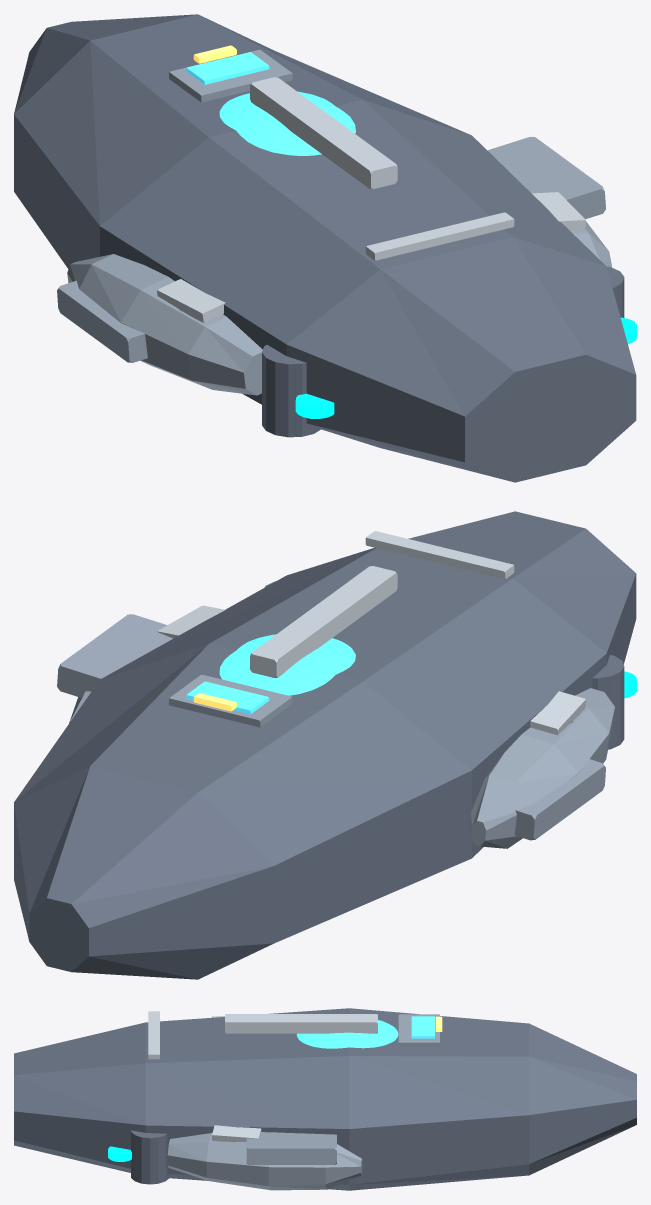
Rendered from patrol_interceptor.glb.
3 views of the same model, one above another, from view 1: azimuth 30°, elevation 25°; view 2: azimuth 150°, elevation 25°; view 3: azimuth 270°, elevation 25° (orthographic). The views are drawn at different scales.
Parts seen in each view (by area): view 1: Ceramic_titanium, Brushed_alloy, Edge_titanium, Ion_glass, Cyan_lightguide; view 2: Ceramic_titanium, Brushed_alloy, Edge_titanium, Ion_glass; view 3: Ceramic_titanium, Brushed_alloy, Edge_titanium, Ion_glass, Cyan_lightguide.
Part boxes in pixels (bbox=[...]): Ceramic_titanium: bbox=[14, 14, 636, 482]; Brushed_alloy: bbox=[57, 49, 612, 395]; Edge_titanium: bbox=[157, 77, 585, 322]; Ion_glass: bbox=[186, 52, 355, 155]; Cyan_lightguide: bbox=[295, 317, 636, 418]; Ceramic_titanium: bbox=[14, 511, 636, 979]; Brushed_alloy: bbox=[57, 614, 614, 848]; Edge_titanium: bbox=[157, 531, 585, 735]; Ion_glass: bbox=[186, 634, 355, 714]; Ceramic_titanium: bbox=[14, 1008, 636, 1190]; Brushed_alloy: bbox=[167, 1014, 439, 1190]; Edge_titanium: bbox=[148, 1011, 377, 1141]; Ion_glass: bbox=[296, 1016, 434, 1048]; Cyan_lightguide: bbox=[108, 1146, 131, 1161].
Size of the model in its own units: 1.78 by 0.8363 by 3.17.
Materials: 8 (8 with a texture image).
